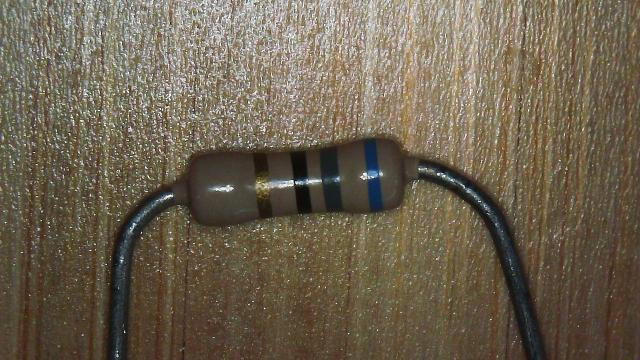black: (292, 151, 310, 213)
blue: (364, 138, 384, 212)
gold: (255, 154, 272, 219)
grey: (321, 148, 342, 212)
resistor: (161, 132, 433, 241)
